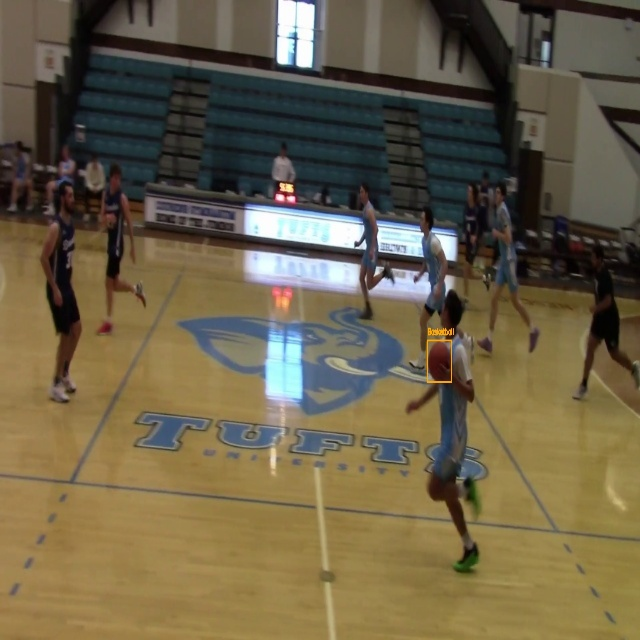Basketball: (427, 341, 451, 382)
